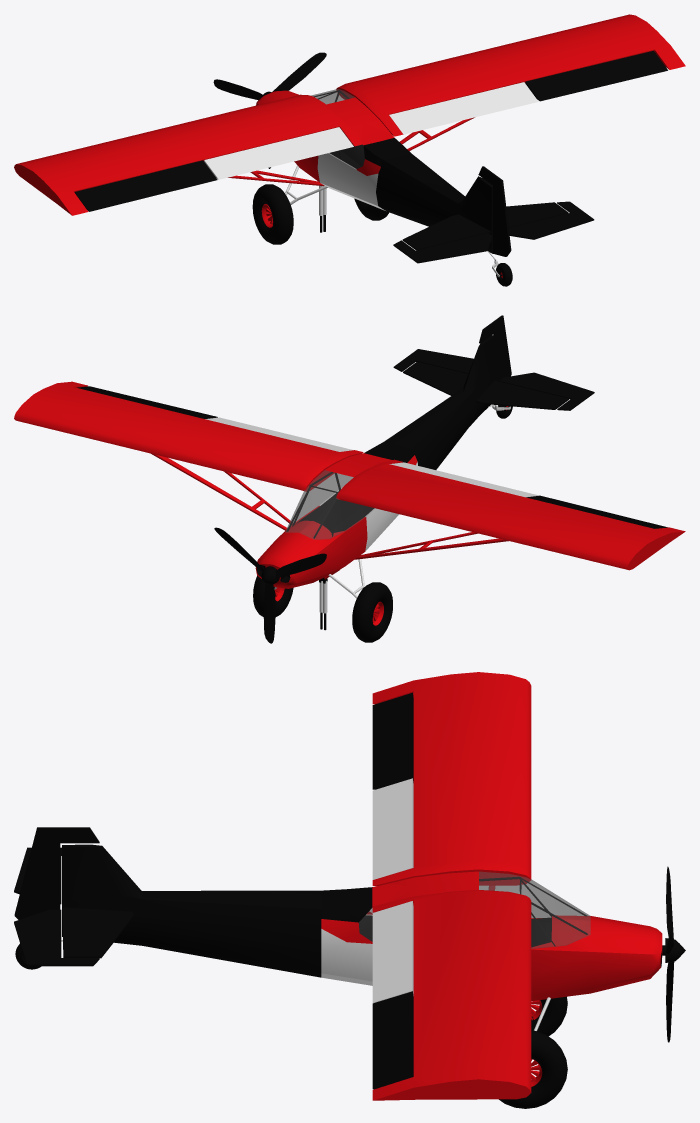
The model's file is Bushplane.fbx.
3 renders of one model, top to bottom at view 1: azimuth 30°, elevation 25°; view 2: azimuth 150°, elevation 25°; view 3: azimuth 270°, elevation 25°, orthographic. The views are drawn at different scales.
Visible parts, largest first — view 1: Main wing, Fuselage, CoclpitGlass, Flap left, Flap right, Ailerons left, Ailerons right, Elevator, Rear feather, Left wheel, Rudder, Propeller (+1 smaller); view 2: Main wing, Fuselage, CoclpitGlass, Rear feather, Elevator, Wing strut, Left wheel, Propeller, Rudder, Flap left, Flap right, Right wheel (+3 smaller); view 3: Main wing, Fuselage, CoclpitGlass, Flap right, Flap left, Rudder, Ailerons right, Ailerons left, Elevator, Rear feather, Right wheel, Propeller (+1 smaller).
Boxes of the visible parts, <box> form: Main wing: <box>14,14,685,215</box>; Fuselage: <box>256,90,492,253</box>; CoclpitGlass: <box>310,89,411,175</box>; Flap left: <box>204,127,353,179</box>; Flap right: <box>389,82,538,134</box>; Ailerons left: <box>74,160,217,211</box>; Ailerons right: <box>525,50,667,101</box>; Elevator: <box>393,201,594,263</box>; Rear feather: <box>402,202,568,250</box>; Left wheel: <box>252,184,293,244</box>; Rudder: <box>478,166,511,256</box>; Propeller: <box>213,52,326,168</box>; Main wing: <box>14,381,685,570</box>; Fuselage: <box>255,335,494,588</box>; CoclpitGlass: <box>285,441,417,539</box>; Rear feather: <box>403,361,568,409</box>; Elevator: <box>393,349,594,410</box>; Wing strut: <box>151,453,508,559</box>; Left wheel: <box>352,582,392,642</box>; Propeller: <box>214,527,326,643</box>; Rudder: <box>479,315,511,381</box>; Flap left: <box>389,462,538,497</box>; Flap right: <box>205,417,353,451</box>; Right wheel: <box>253,575,293,616</box>; Main wing: <box>372,672,531,1100</box>; Fuselage: <box>62,844,662,1001</box>; CoclpitGlass: <box>321,871,590,948</box>; Flap right: <box>372,901,413,1002</box>; Flap left: <box>372,778,413,879</box>; Rudder: <box>14,827,99,919</box>; Ailerons right: <box>372,991,413,1089</box>; Ailerons left: <box>372,692,413,789</box>; Elevator: <box>14,847,99,966</box>; Rear feather: <box>63,907,133,958</box>; Right wheel: <box>499,1030,567,1108</box>; Propeller: <box>662,866,685,1042</box>.
Bounding box in the file's own units: 1022 × 291 × 713.
